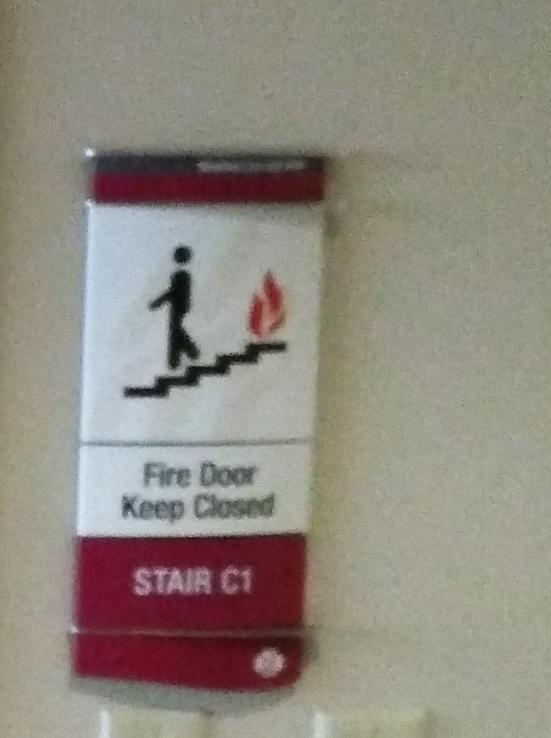sign: (72, 150, 328, 688)
